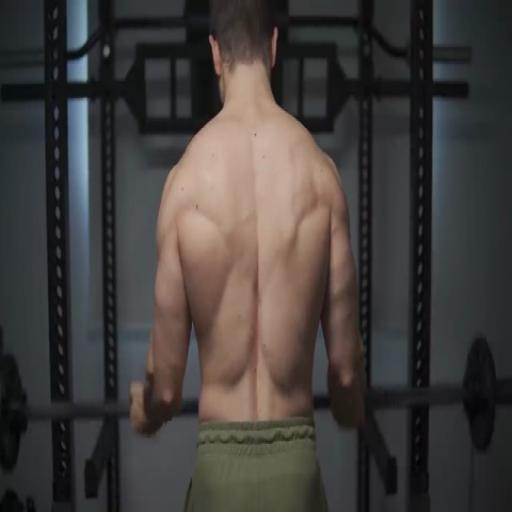exercise: (127, 0, 370, 511)
